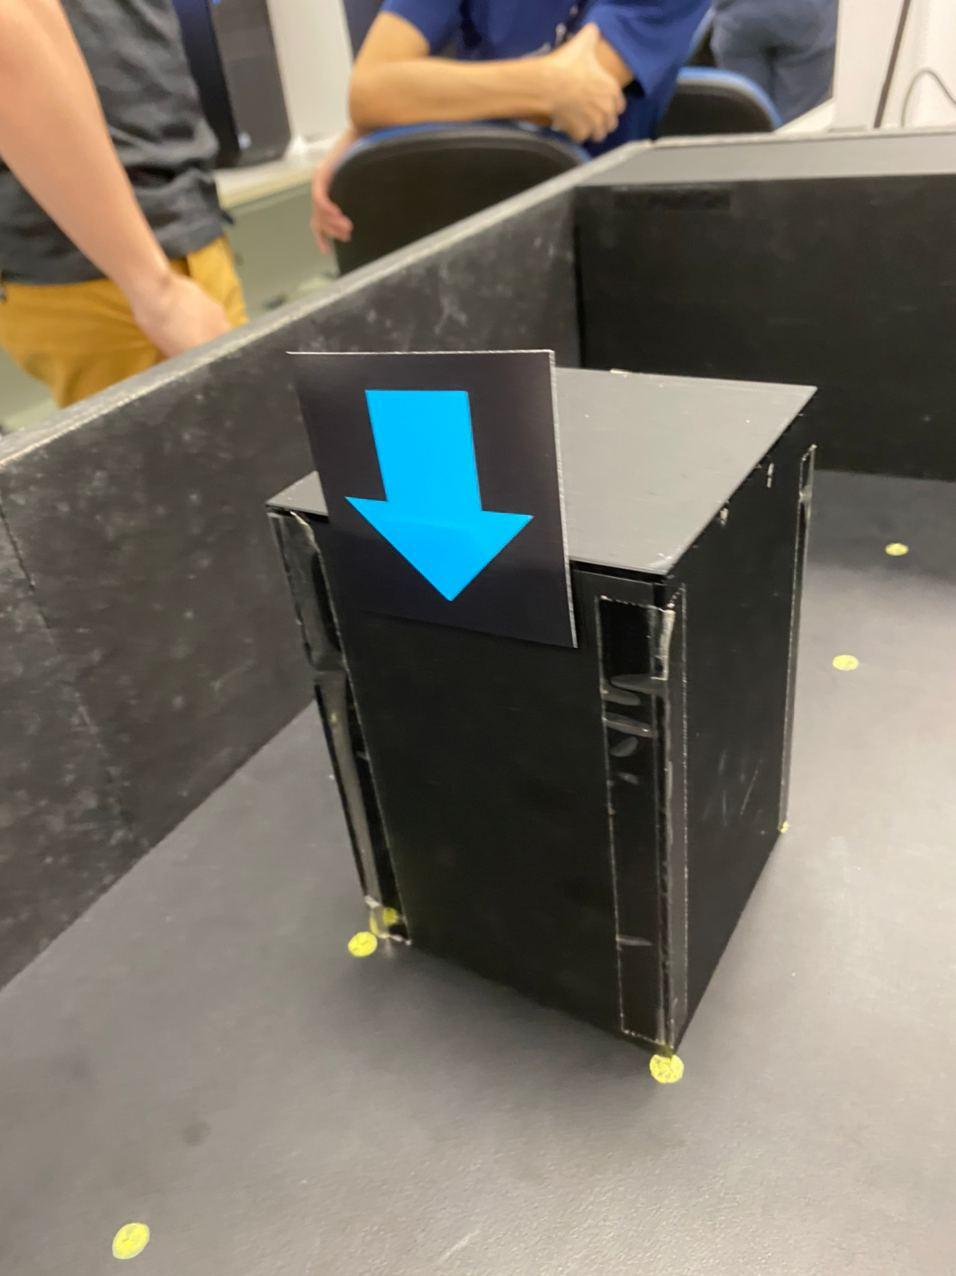down: (346, 385, 533, 608)
